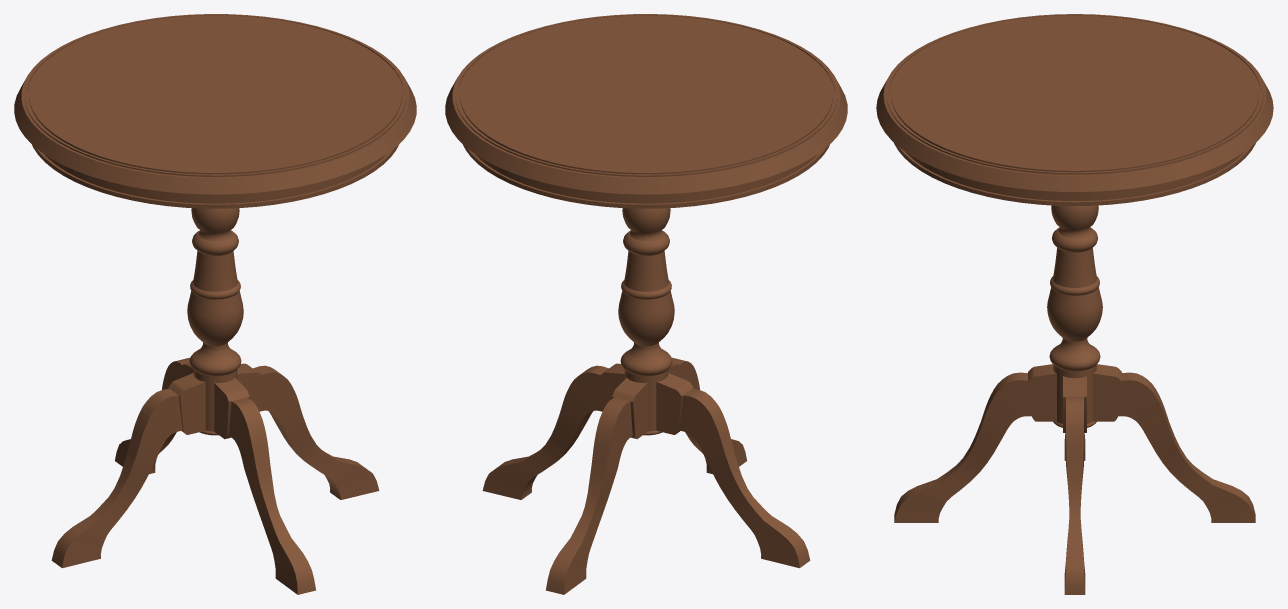
File: round_table_2.glb
3 renders of one model, left to right at view 1: azimuth 30°, elevation 25°; view 2: azimuth 150°, elevation 25°; view 3: azimuth 270°, elevation 25°, orthographic.
Visible parts, largest first — view 1: table, leg; view 2: table, leg; view 3: table, leg.
Part boxes in pixels (<box>): table: <box>14,14,416,208</box>; leg: <box>51,208,379,594</box>; table: <box>445,14,847,208</box>; leg: <box>482,208,810,594</box>; table: <box>876,14,1273,205</box>; leg: <box>894,205,1255,594</box>.
Bounding box in the file's own units: 0.55 × 0.65 × 0.55.
